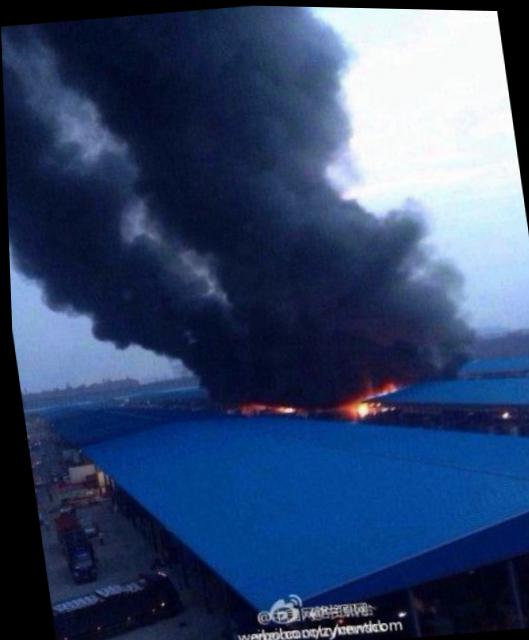fire: (333, 395, 369, 418), (358, 380, 393, 397), (233, 399, 260, 412), (265, 399, 292, 412)
